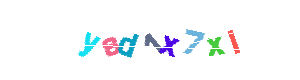1: (110, 0, 190, 80)
7: (129, 0, 209, 80)
D: (109, 0, 189, 80)
L: (175, 0, 255, 80)
S: (88, 0, 168, 80)
X: (116, 0, 196, 80), (138, 0, 218, 80)
Y: (48, 0, 128, 80)
